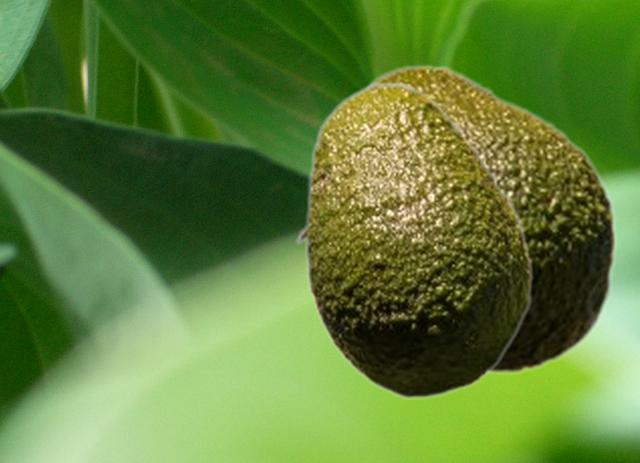avocado: (364, 63, 617, 375), (295, 81, 533, 398)
